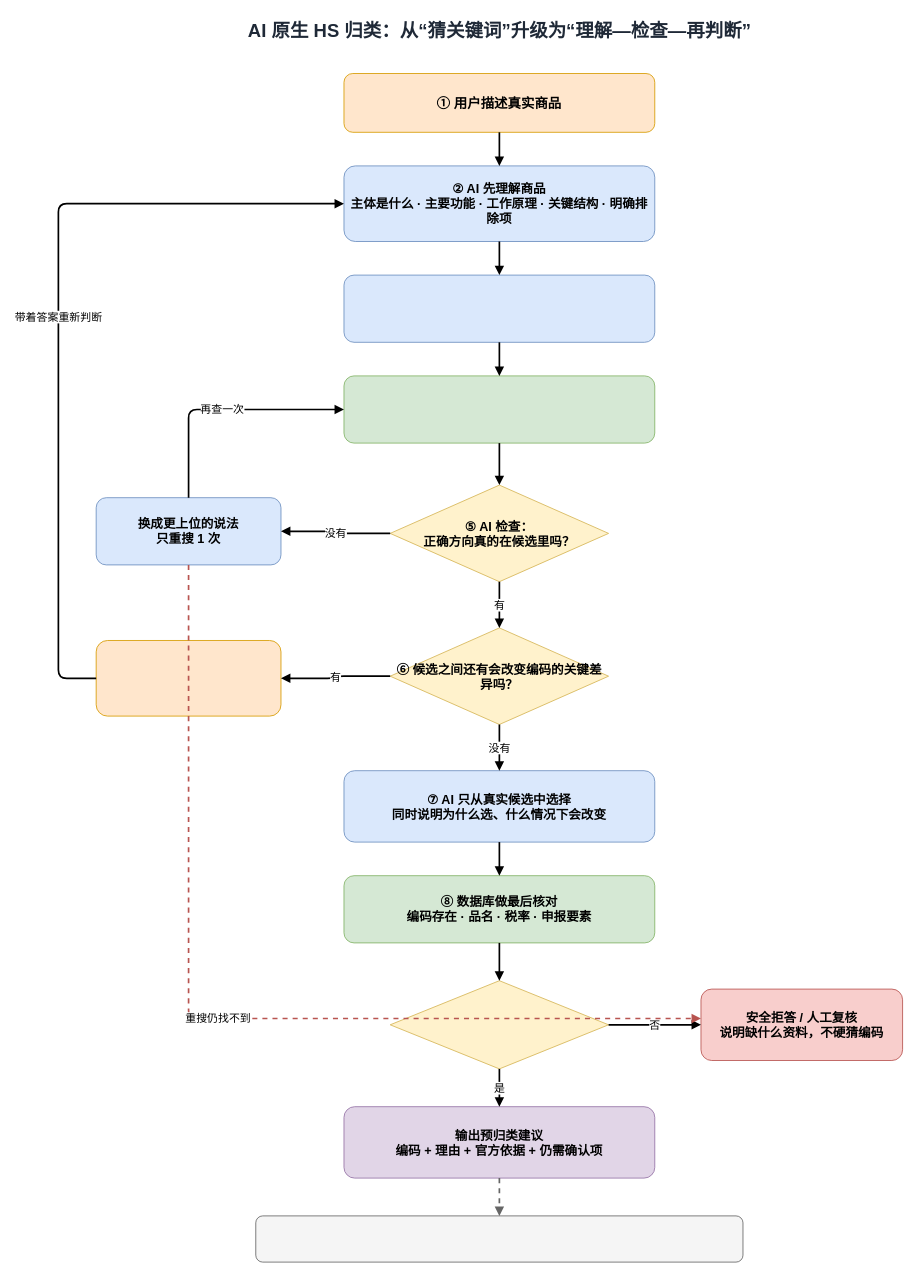
The diagram is 917 pixels wide and 1277 high, and some of its shapes have lost their labels. The box of each missing label's shape, as (x1, y1, x2, y2) in pixels:
③ AI 翻译成税则语言 给出上位名称 + 可能的 4 位品目方向: (343, 274, 655, 342)
④ 数据库多路查找 商品原词 + 税则词 + 4 位品目内查找: (343, 375, 655, 443)
信息足够、结果可靠吗？: (389, 980, 609, 1069)
只问 1 个最关键问题 用户回答后重新理解 最多 3 轮: (95, 640, 281, 716)
底线不变：AI 负责理解与判断；数据库负责真实编码；不确定时允许拒答。: (255, 1215, 743, 1262)
